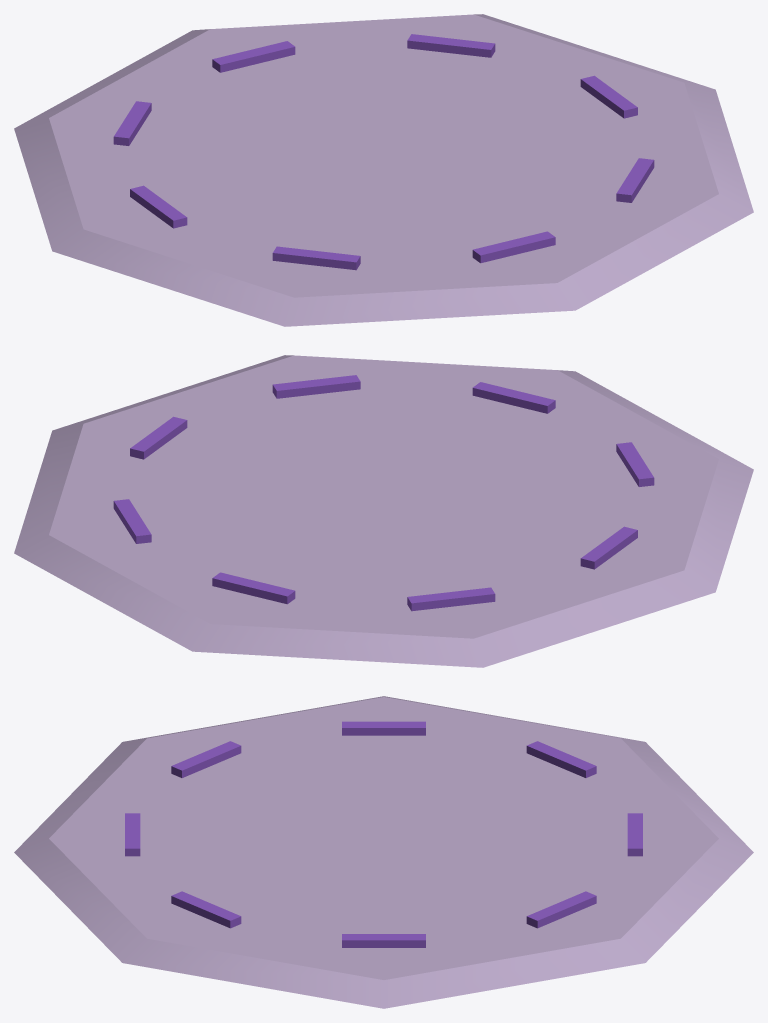
File: foundation.glb
3 views of the same model, one above another, from view 1: azimuth 30°, elevation 25°; view 2: azimuth 150°, elevation 25°; view 3: azimuth 270°, elevation 25° (orthographic). The views are drawn at different scales.
Parts seen in each view (by area): view 1: foundation_inlay, foundation_rune_3, foundation_rune_7, foundation_rune_2, foundation_rune_6, foundation_rune_0, foundation_rune_4, foundation_rune_1, foundation_rune_5; view 2: foundation_inlay, foundation_rune_5, foundation_rune_1, foundation_rune_6, foundation_rune_2, foundation_rune_0, foundation_rune_4, foundation_rune_7, foundation_rune_3; view 3: foundation_inlay, foundation_rune_4, foundation_rune_0, foundation_rune_1, foundation_rune_7, foundation_rune_3, foundation_rune_5, foundation_rune_2, foundation_rune_6.
Boxes of the visible parts, x1,y1,x2,y2 form: foundation_inlay: (14,14,753,326); foundation_rune_3: (272,246,360,270); foundation_rune_7: (407,34,495,57); foundation_rune_2: (472,231,555,263); foundation_rune_6: (212,41,295,72); foundation_rune_0: (580,75,637,118); foundation_rune_4: (130,185,187,228); foundation_rune_1: (616,158,654,202); foundation_rune_5: (113,101,151,145); foundation_inlay: (14,355,753,667); foundation_rune_5: (407,587,495,611); foundation_rune_1: (272,375,360,398); foundation_rune_6: (212,572,295,604); foundation_rune_2: (472,382,555,413); foundation_rune_0: (130,416,187,459); foundation_rune_4: (580,526,637,569); foundation_rune_7: (113,499,151,543); foundation_rune_3: (616,442,654,486); foundation_inlay: (14,696,753,1008); foundation_rune_4: (342,721,425,735); foundation_rune_0: (342,934,425,947); foundation_rune_1: (171,891,241,928); foundation_rune_7: (526,891,596,928); foundation_rune_3: (171,741,241,777); foundation_rune_5: (526,741,596,777); foundation_rune_2: (125,813,140,856); foundation_rune_6: (627,813,642,856).
Size of what is drawn, in the model's own units: 10.6 by 0.34 by 10.6.
